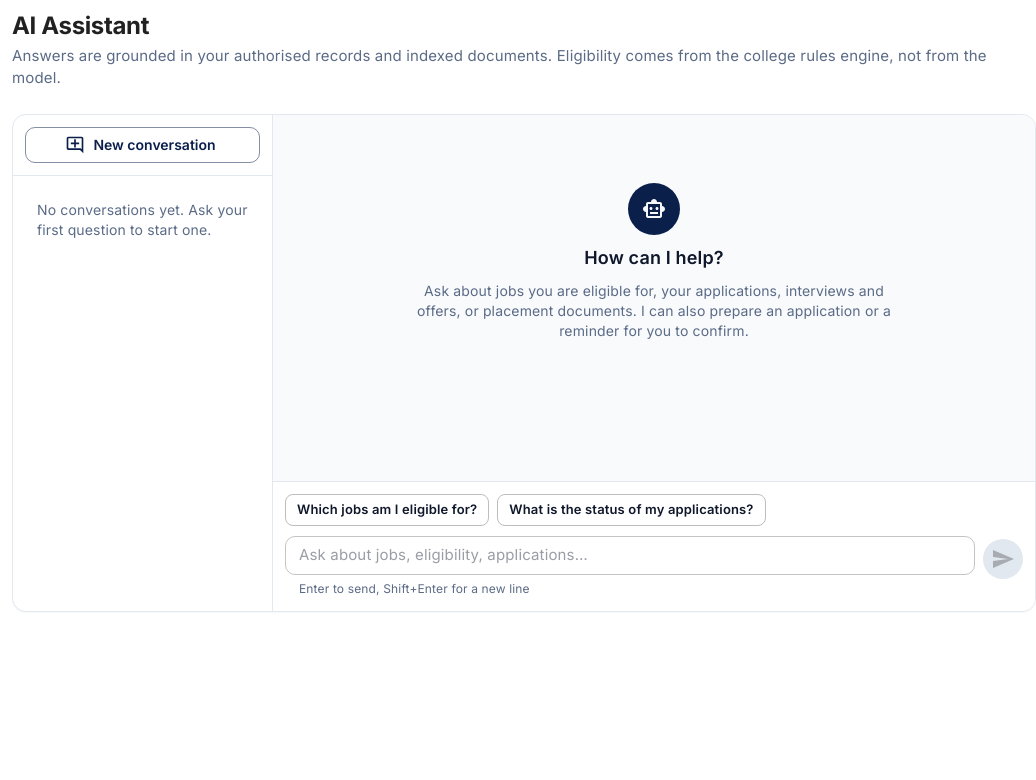
Test case: errors, retry and availability › a failed send shows the reason and Retry re-sends the same message
In the text box named "Message the assistant": x=630, y=555 [299,544,961,566], type "Why not eligible?"
Then press Enter
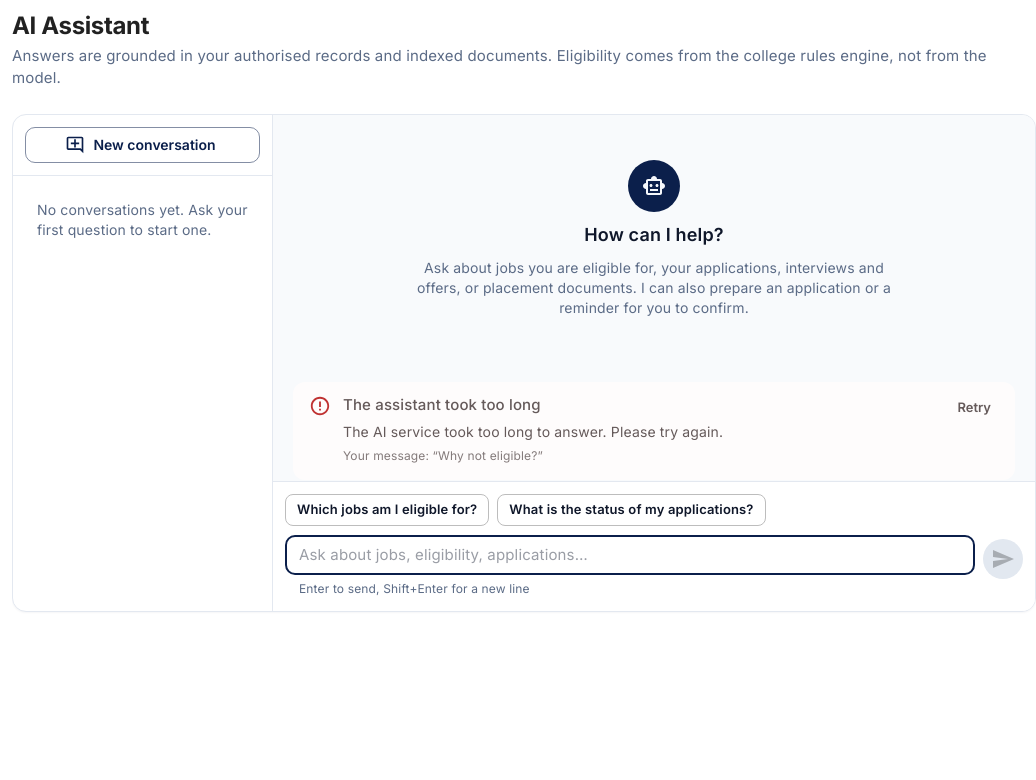
Now the text "The assistant took too long" is shown, box [343,395,541,414]
Now the text "The AI service took too long to answer. Please try again." is shown, box [343,423,723,440]
Now the text "Your message: “Why not eligible?”" is shown, box [343,448,543,463]
Click the button "Retry": x=974, y=408 [941,392,1007,423]
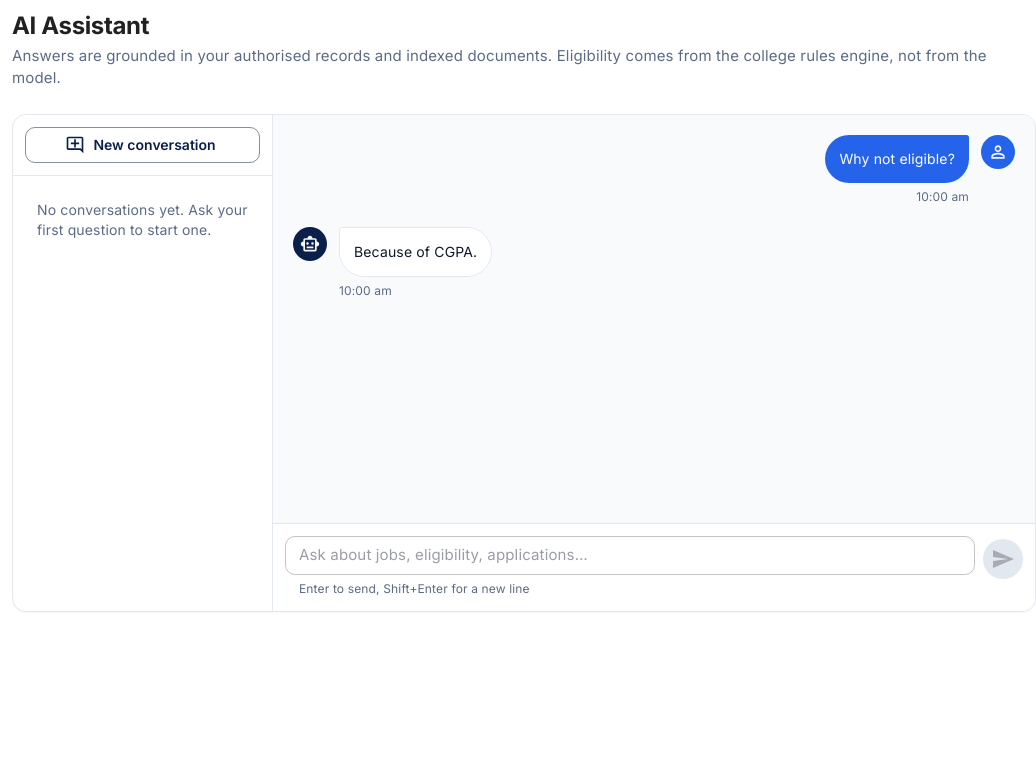
Now the text "Because of CGPA." is shown, box [354,242,477,262]
Now the text "The assistant took too long" is gone
